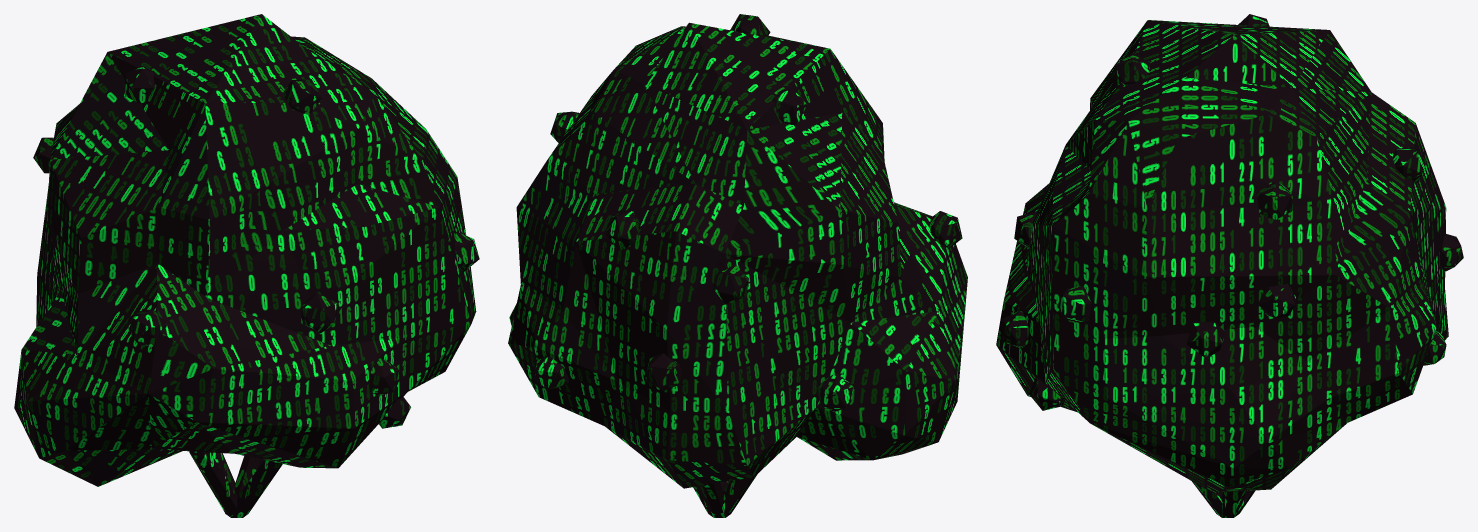
Rendered from Bush_Berries_Blue_code.fbx.
3 renders of one model, left to right at view 1: azimuth 30°, elevation 25°; view 2: azimuth 150°, elevation 25°; view 3: azimuth 270°, elevation 25°, orthographic.
Visible parts, largest first — view 1: Bush_Berries_Blue_code; view 2: Bush_Berries_Blue_code; view 3: Bush_Berries_Blue_code.
Part boxes in pixels (x1=…): Bush_Berries_Blue_code: x1=14, y1=14, x2=479, y2=517; Bush_Berries_Blue_code: x1=508, y1=14, x2=967, y2=517; Bush_Berries_Blue_code: x1=996, y1=14, x2=1463, y2=517.
Size of the model in its own units: 0.9978 by 1.13 by 0.9697.
Materials: 1 (1 with a texture image).
